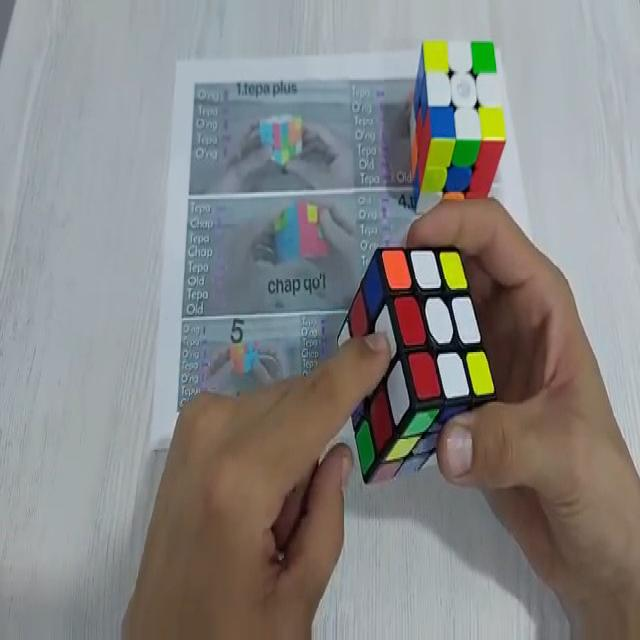Rub: (338, 246, 496, 484), (411, 41, 507, 196)
